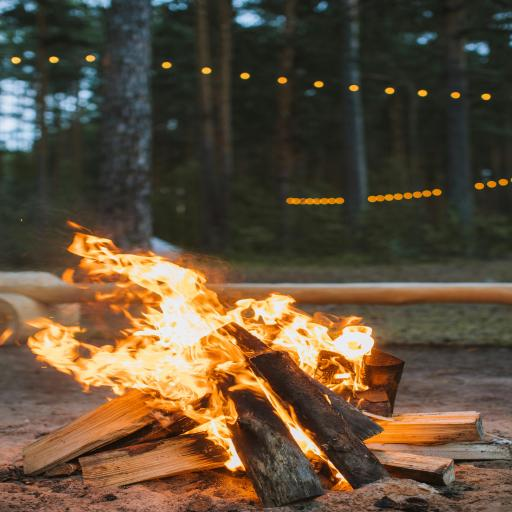campfire: (8, 230, 512, 512)
